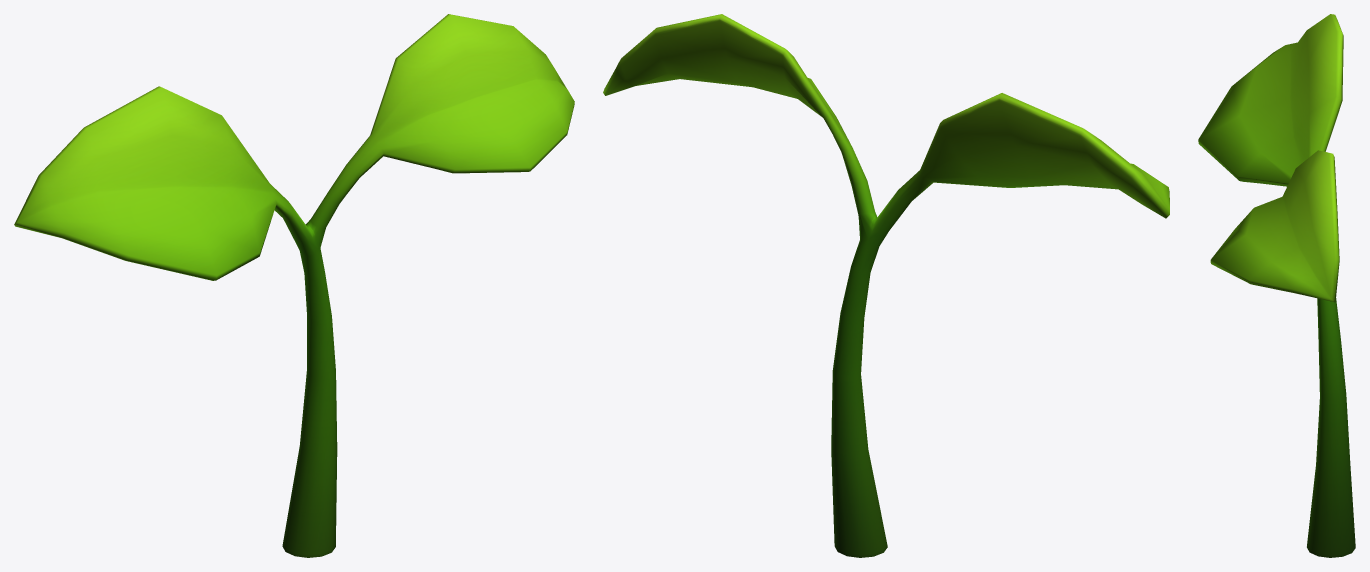
The model's file is Sprout.FBX.
The picture shows the model from 3 angles, left to right: view 1: azimuth 30°, elevation 25°; view 2: azimuth 150°, elevation 25°; view 3: azimuth 270°, elevation 25°; orthographic projection. The views are drawn at different scales.
Parts seen in each view (by area): view 1: Sprout; view 2: Sprout; view 3: Sprout.
Boxes of the visible parts, x1,y1,x2,y2 form: Sprout: [14, 14, 574, 557]; Sprout: [603, 14, 1169, 557]; Sprout: [1198, 14, 1355, 557].
Bounding box in the file's own units: 86.4 × 73.58 × 22.97.
